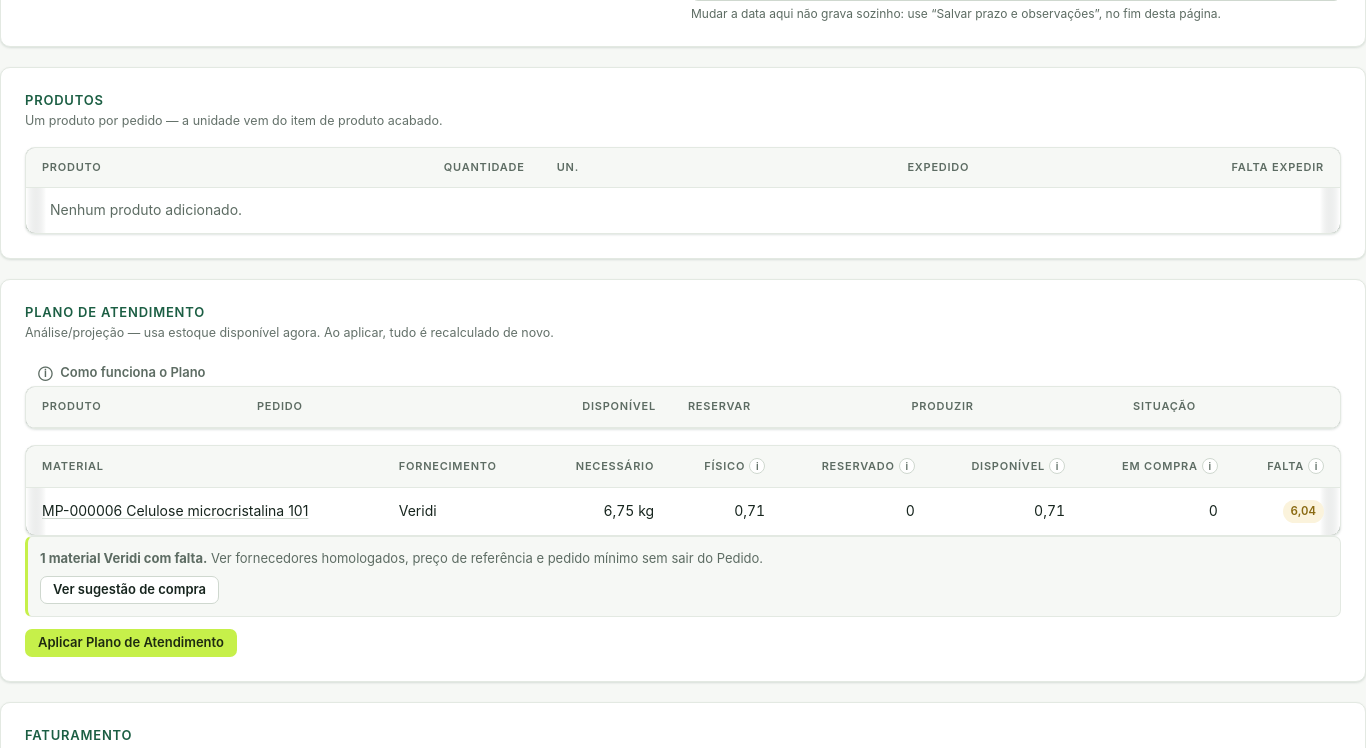
Plano de Atendimento › explica que o Plano é projeção — e a explicação começa fechada
(page scrolled)
Expected: the link "MP-000006 Celulose microcristalina 101" is shown, [42,502,308,519]
Click the button "ⓘ Como funciona o Plano": (122, 372) [25,358,218,386]
(page scrolled)
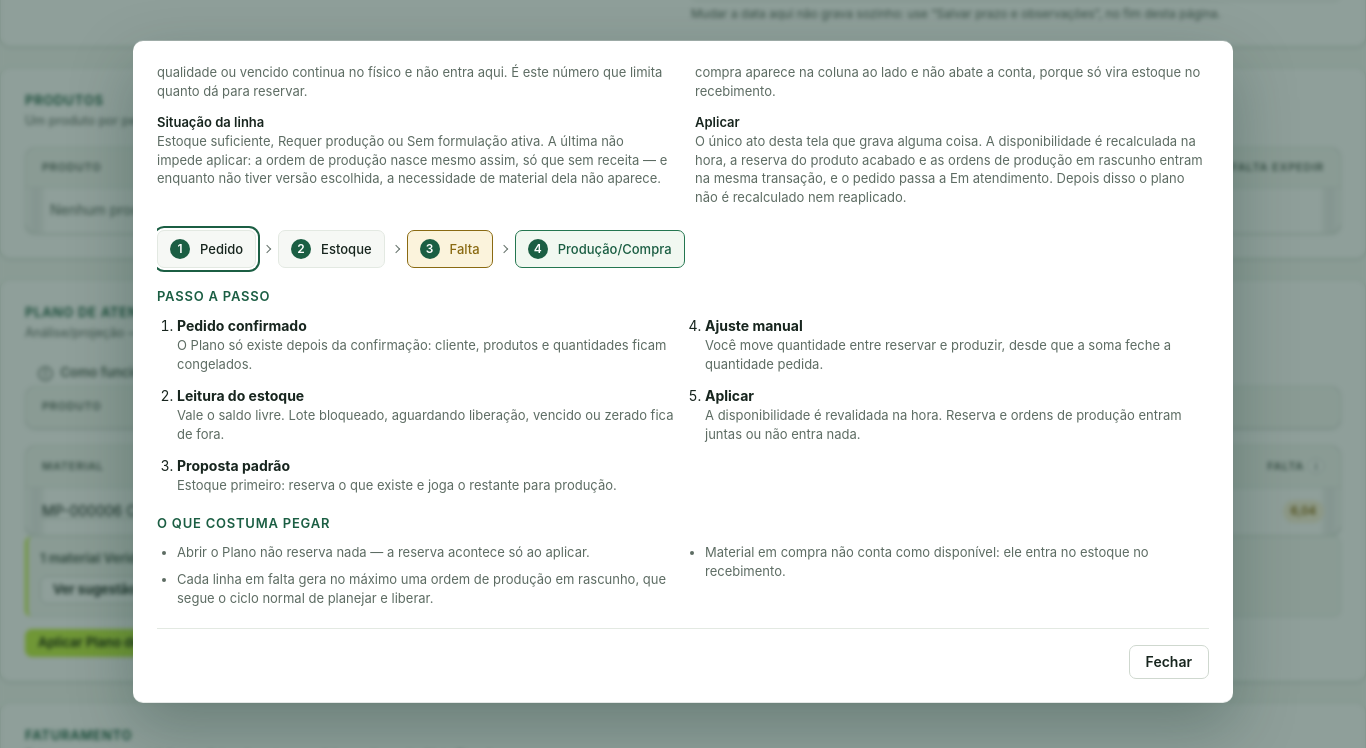
Result: the button "ⓘ Como funciona o Plano" is expanded at [25,358,218,386]
Result: the list item "Abrir o Plano não reserva nada" is shown at [177,544,590,560]
Click the button "Fechar": (1169, 662) [1129,645,1209,679]
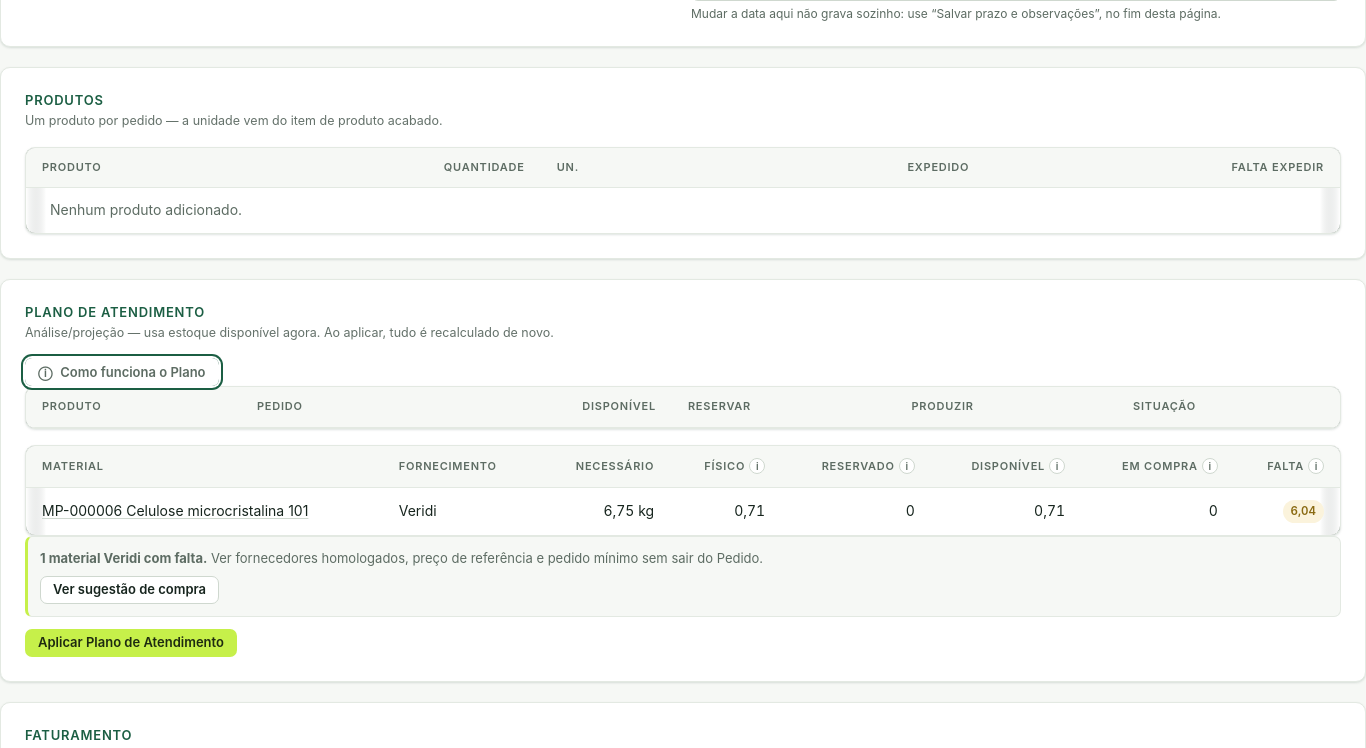
Result: the button "ⓘ Como funciona o Plano" is collapsed at [25,358,218,386]
